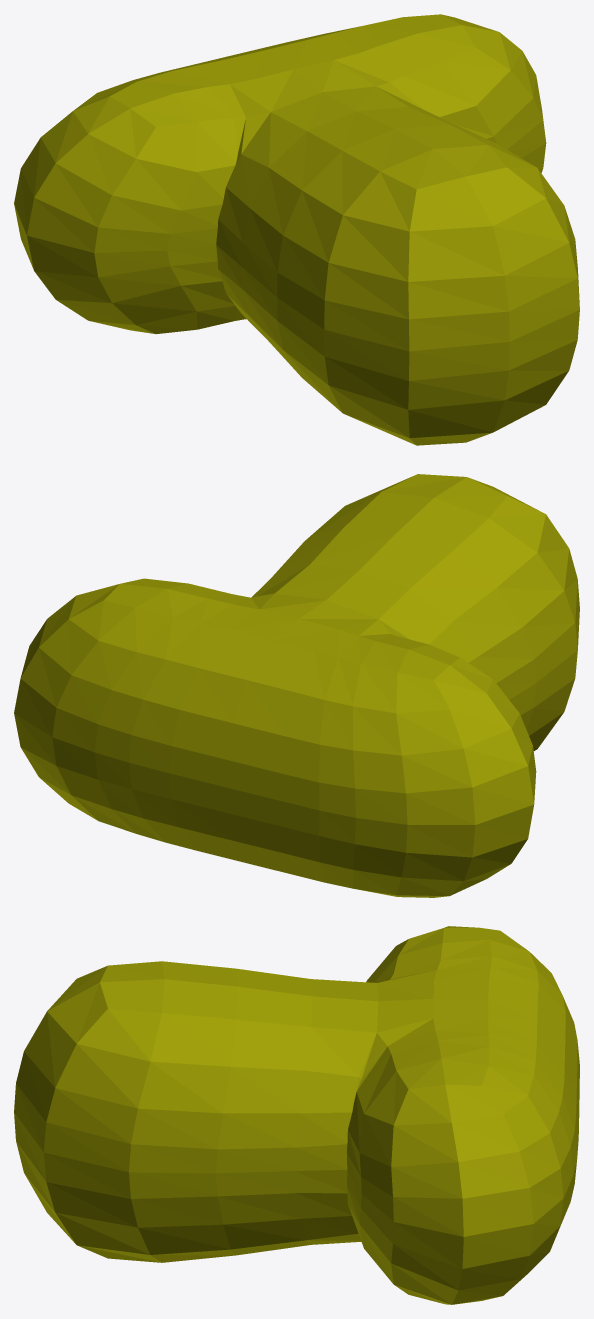
3 renders of one model, top to bottom at view 1: azimuth 30°, elevation 25°; view 2: azimuth 150°, elevation 25°; view 3: azimuth 270°, elevation 25°, orthographic. The views are drawn at different scales.
Bounding box in the file's own units: 0.9677 × 0.4881 × 0.942.
